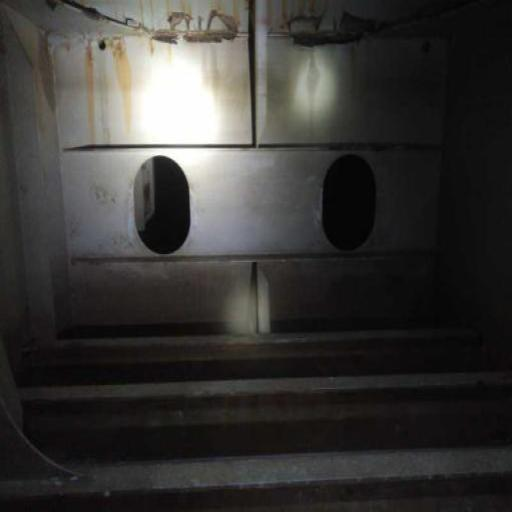Detect-rust-on-metal-surfaces: (281, 5, 462, 57), (148, 8, 245, 55), (112, 39, 133, 138), (84, 41, 102, 152)
